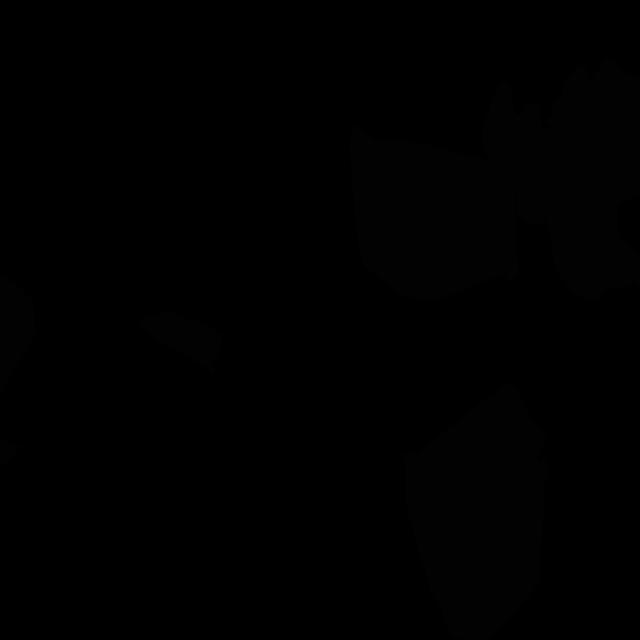cardboard: (401, 382, 548, 640), (349, 125, 519, 301), (539, 133, 640, 301), (482, 80, 566, 226), (547, 60, 640, 175), (136, 312, 223, 374), (0, 273, 36, 393), (0, 437, 22, 470)
